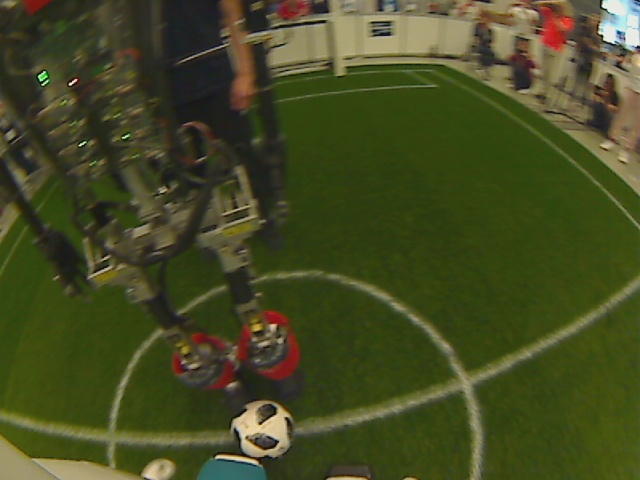ball: (226, 397, 300, 466)
